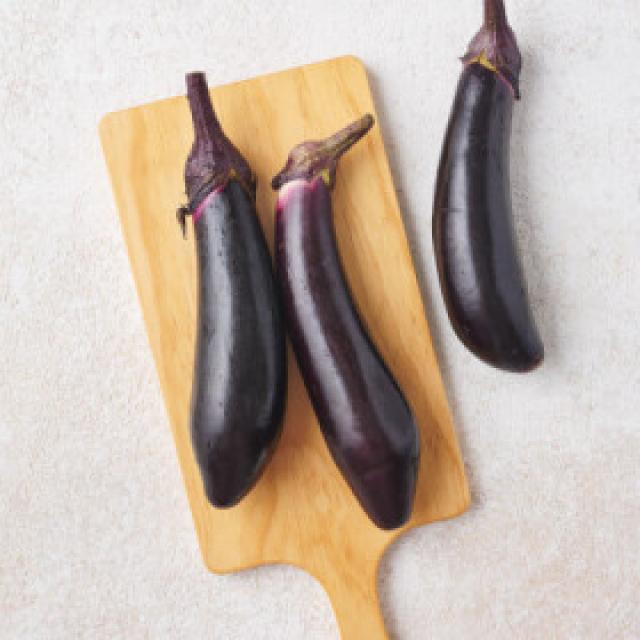eggplant: (128, 0, 574, 549), (127, 66, 309, 544), (275, 89, 417, 545)
